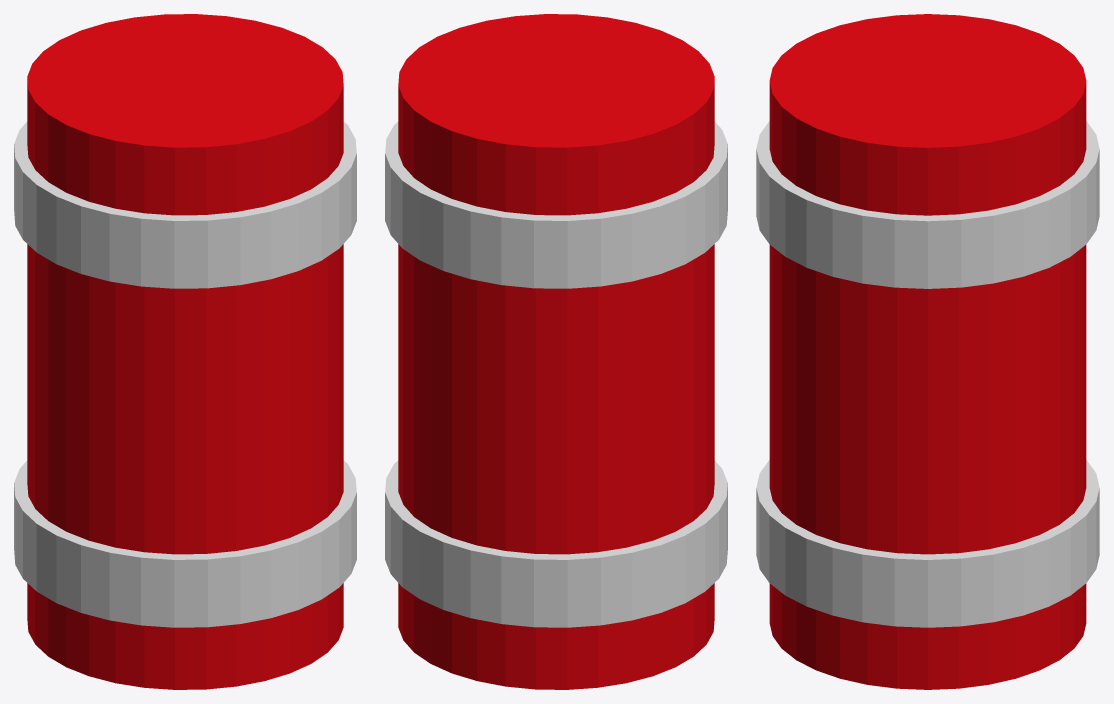
The model's file is tank.fbx.
3 renders of one model, left to right at view 1: azimuth 30°, elevation 25°; view 2: azimuth 150°, elevation 25°; view 3: azimuth 270°, elevation 25°, orthographic.
Visible parts, largest first — view 1: Cylinder; view 2: Cylinder; view 3: Cylinder.
Part boxes in pixels (x1,y1,x2,y2): Cylinder: (14, 14, 356, 689); Cylinder: (385, 14, 727, 689); Cylinder: (756, 14, 1099, 689).
Bounding box in the file's own units: 115 × 200 × 115.
